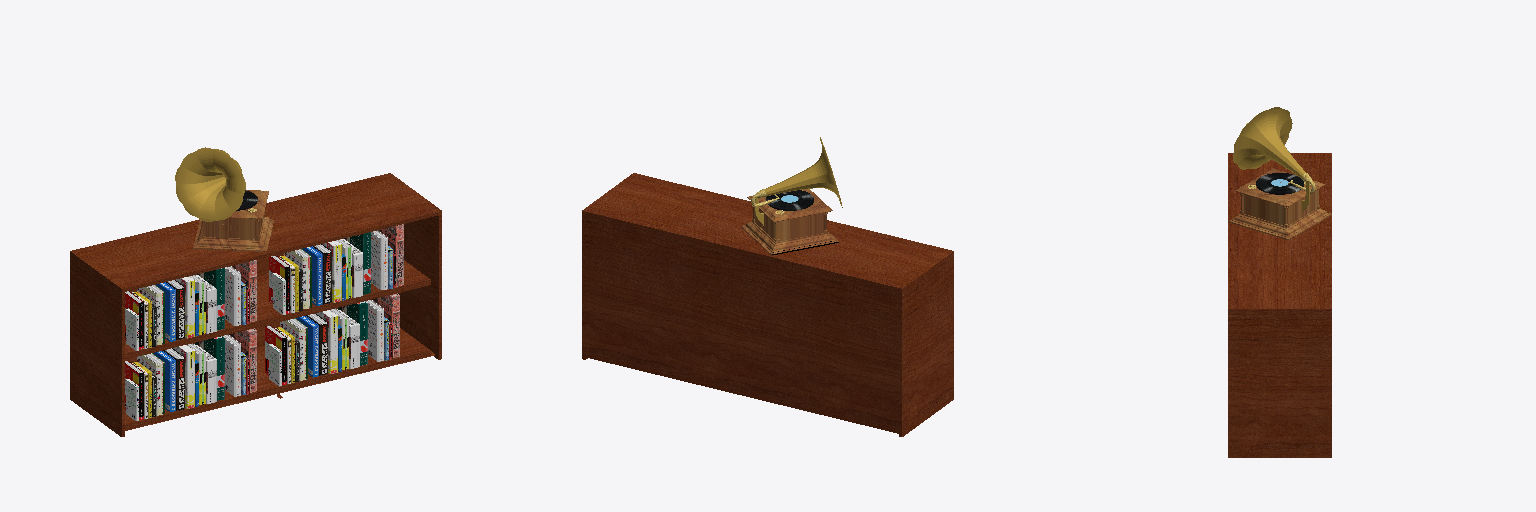
3 views of the same model, side by side, from view 1: azimuth 30°, elevation 25°; view 2: azimuth 150°, elevation 25°; view 3: azimuth 270°, elevation 25° (orthographic).
Parts seen in each view (by area): view 1: Rack_Shelf_N241113:Mesh72; view 2: Rack_Shelf_N241113:Mesh72; view 3: Rack_Shelf_N241113:Mesh72.
Boxes of the visible parts, <box> form: Rack_Shelf_N241113:Mesh72: <box>70,147,441,436</box>; Rack_Shelf_N241113:Mesh72: <box>582,137,953,436</box>; Rack_Shelf_N241113:Mesh72: <box>1228,107,1331,457</box>.
Bounding box in the file's own units: 3.49 × 2.57 × 0.9791.
78 materials, 22 textured.